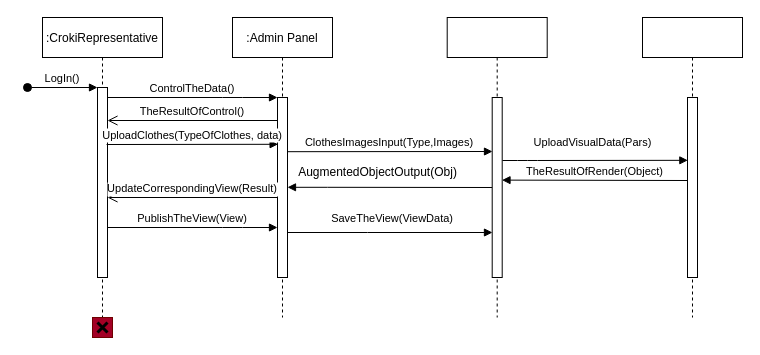
Image size: 760x355. Some labels were removed from this diagram. Each missing label, with the box of its shape:
:Meshroom: (642, 16, 742, 318)
:Server: (446, 16, 547, 318)
